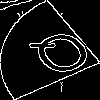Q: (25, 25, 100, 87)
